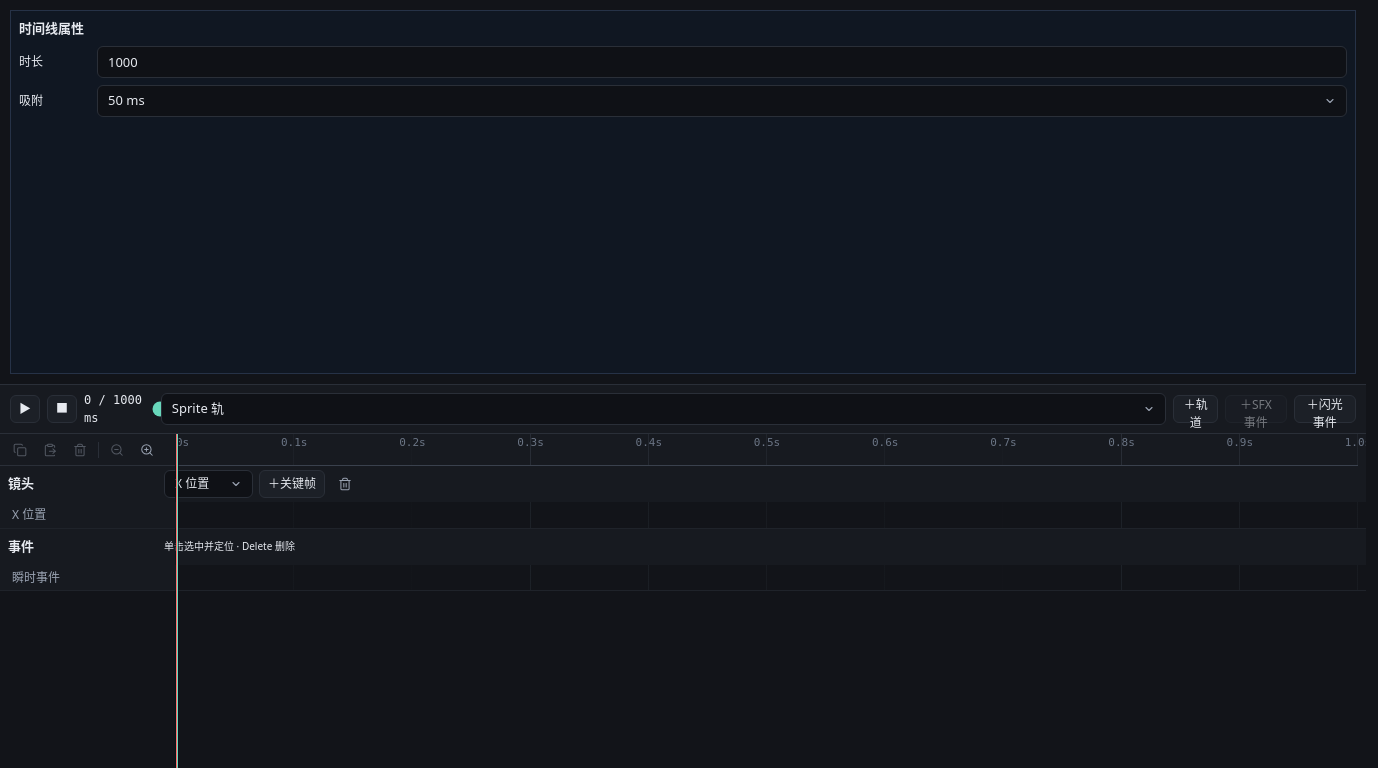
timeline creation without a visible asset › treats a fully hidden asset list the same as an empty one
The image size is (1378, 768).
Expected: the button "＋SFX 事件" is disabled, x1=1225 y1=395 x2=1287 y2=423
Select "视频轨" in the dropdown named "新建轨道类型" at (664, 409), box x1=161 y1=393 x2=1166 y2=425
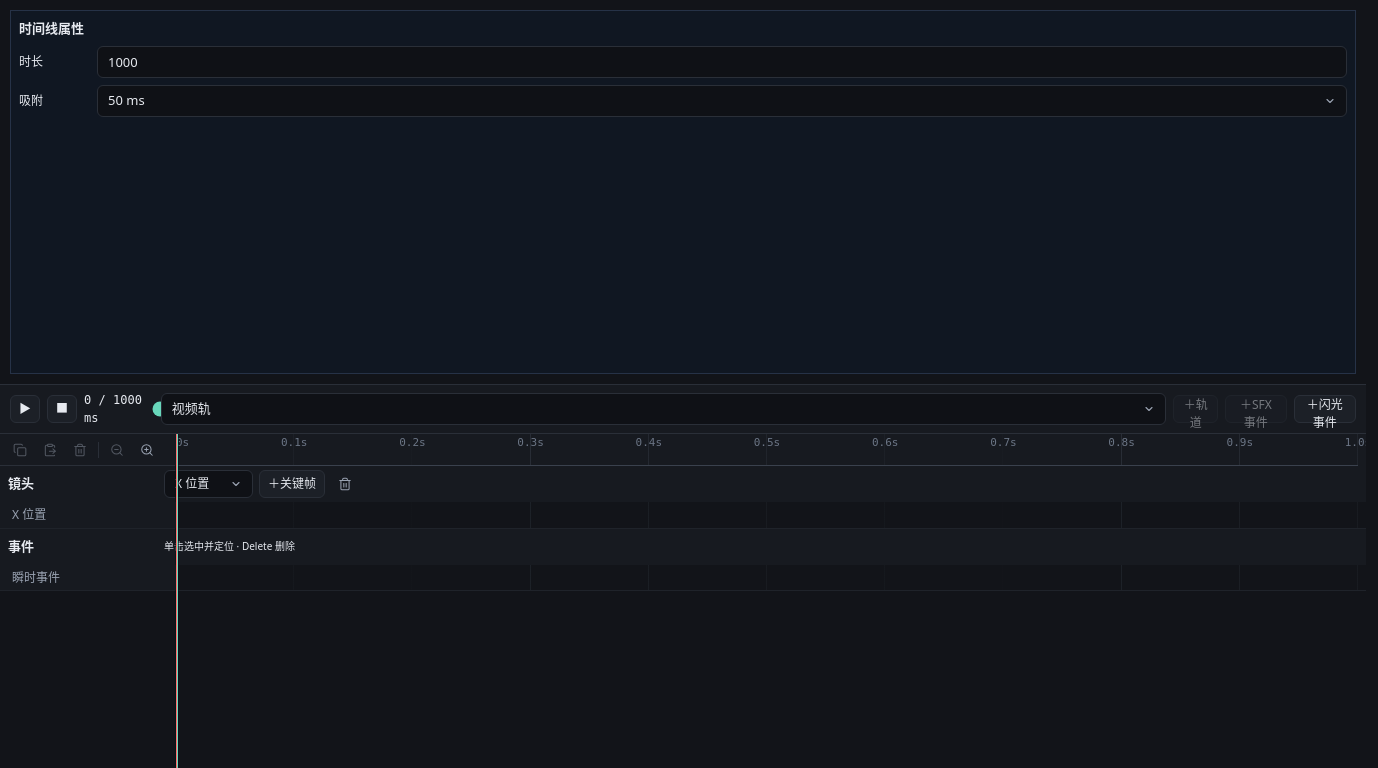
Expected: the button "＋轨道" is disabled, x1=1173 y1=395 x2=1218 y2=423
